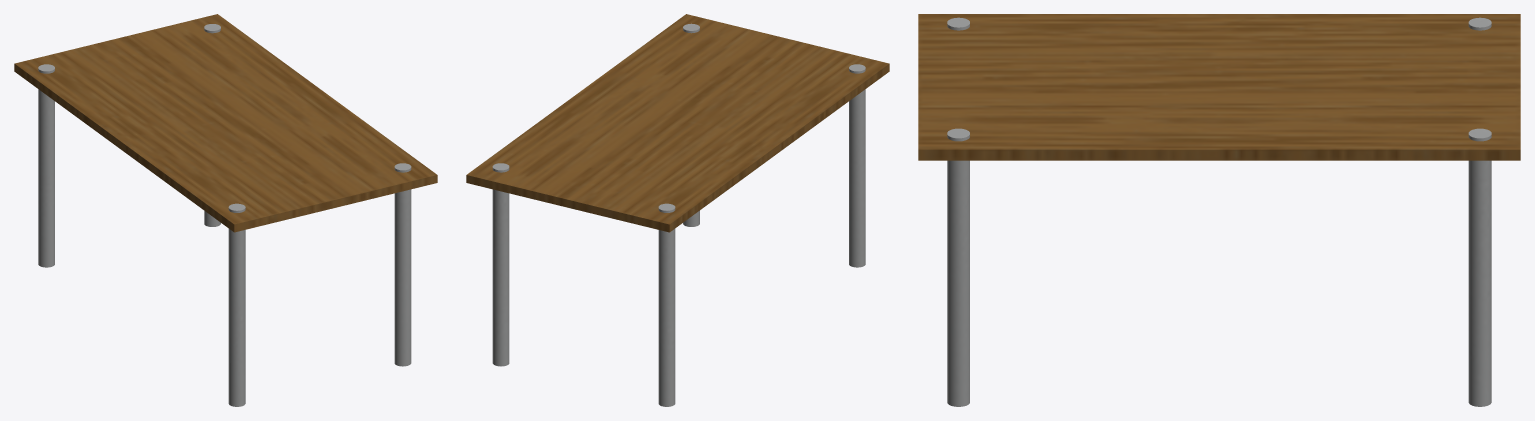
Rendered from MesaBlender.glb.
The picture shows the model from 3 angles, left to right: view 1: azimuth 30°, elevation 25°; view 2: azimuth 150°, elevation 25°; view 3: azimuth 270°, elevation 25°; orthographic projection. The views are drawn at different scales.
Parts seen in each view (by area): view 1: Mesa_low, PataMesa_low, PataMesa_low.001, PataMesa_low.002; view 2: Mesa_low, PataMesa_low.002, PataMesa_low.003, PataMesa_low; view 3: Mesa_low, PataMesa_low.003, PataMesa_low.001.
Part boxes in pixels (<box>): Mesa_low: <box>14,14,437,232</box>; PataMesa_low: <box>228,203,245,406</box>; PataMesa_low.001: <box>394,163,411,366</box>; PataMesa_low.002: <box>38,64,54,267</box>; Mesa_low: <box>466,14,889,232</box>; PataMesa_low.002: <box>658,203,675,406</box>; PataMesa_low.003: <box>492,163,509,366</box>; PataMesa_low: <box>849,64,865,267</box>; Mesa_low: <box>918,14,1520,160</box>; PataMesa_low.003: <box>1468,128,1491,406</box>; PataMesa_low.001: <box>947,128,969,406</box>.
Size of the model in its own units: 18.2 by 16.78 by 34.1.
1 material, 1 textured.
